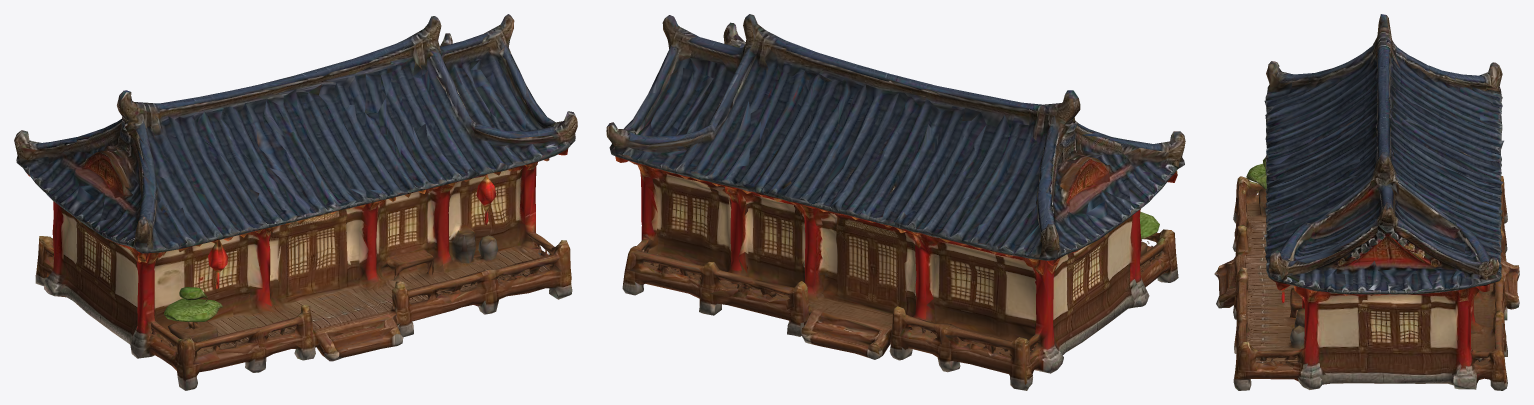
The model's file is casa_m.glb.
The picture shows the model from 3 angles, left to right: view 1: azimuth 30°, elevation 25°; view 2: azimuth 150°, elevation 25°; view 3: azimuth 270°, elevation 25°; orthographic projection. The views are drawn at different scales.
Visible parts, largest first — view 1: casa_m; view 2: casa_m; view 3: casa_m.
Boxes of the visible parts, x1,y1,x2,y2 form: casa_m: [14, 14, 577, 390]; casa_m: [606, 14, 1185, 390]; casa_m: [1214, 14, 1519, 390].
Size of the model in its own units: 9.83 by 5 by 6.43.
Materials: 1 (1 with a texture image).
